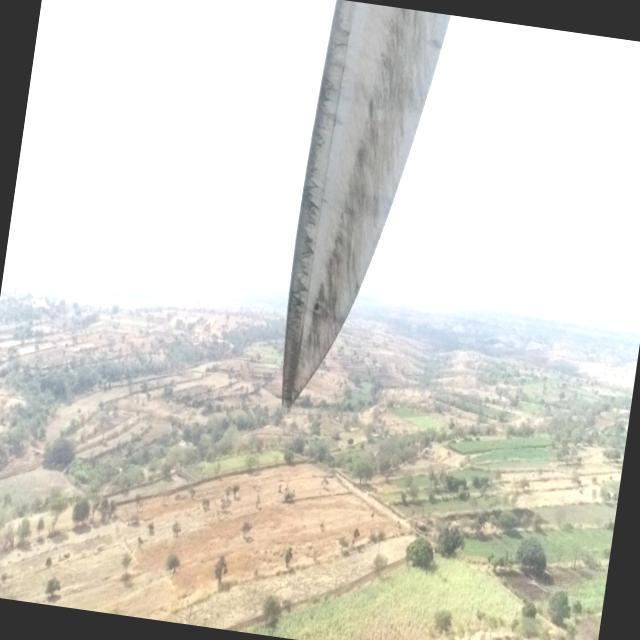Dirt: (281, 0, 452, 406)
Pin Hole: (313, 302, 323, 316)
